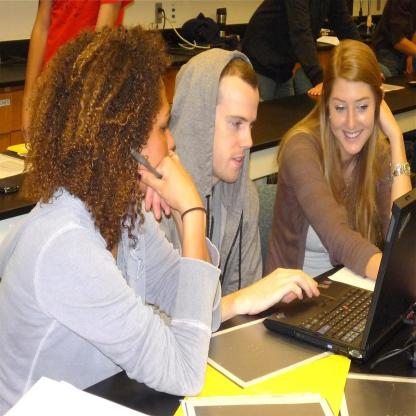board: (263, 187, 416, 364)
